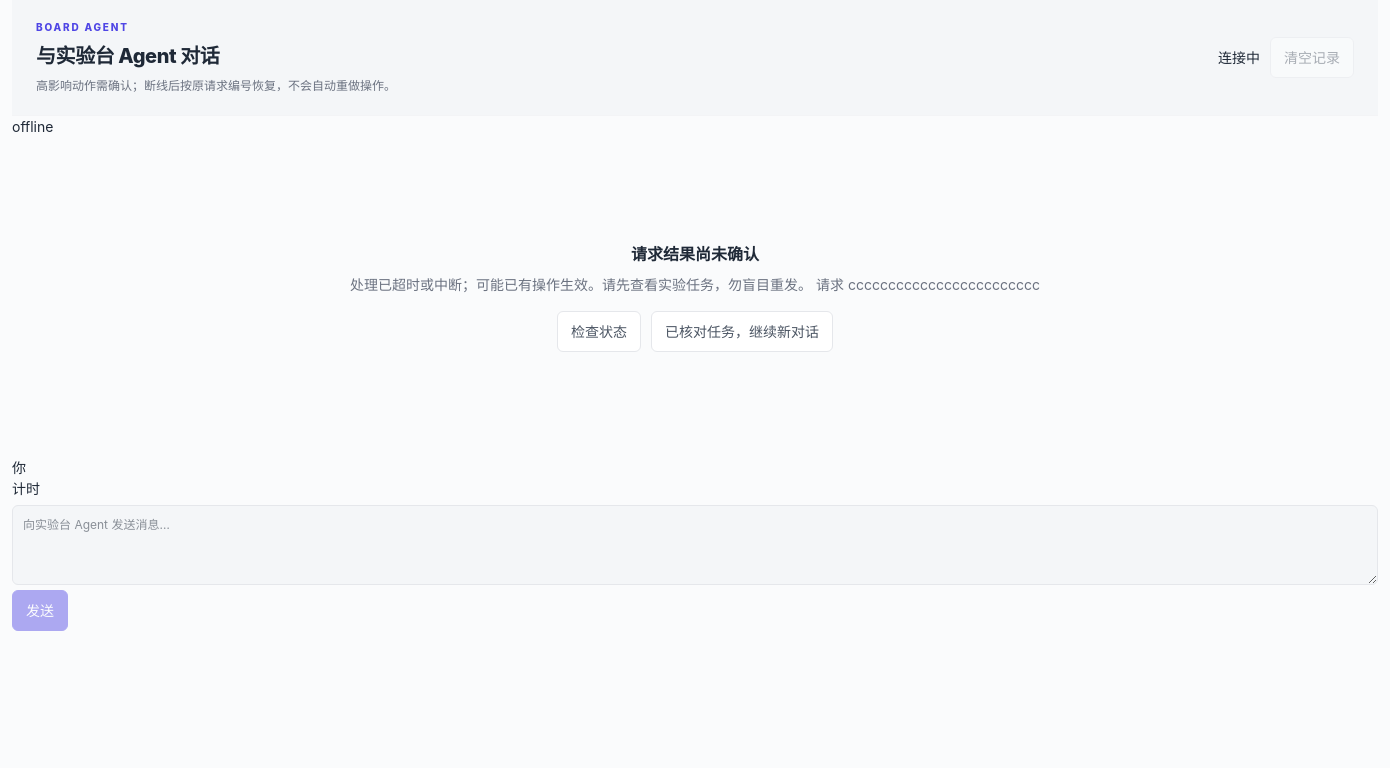
it: request-based portal chat › bounds a hanging socket and a request deadline even when polling is offline
The image size is (1390, 768).
expect the text "请求结果尚未确认" is shown: met, box [631,242,759,266]
Step 1. Click the button "已核对任务，继续新对话" → (742, 332), box [651,311,833,352]
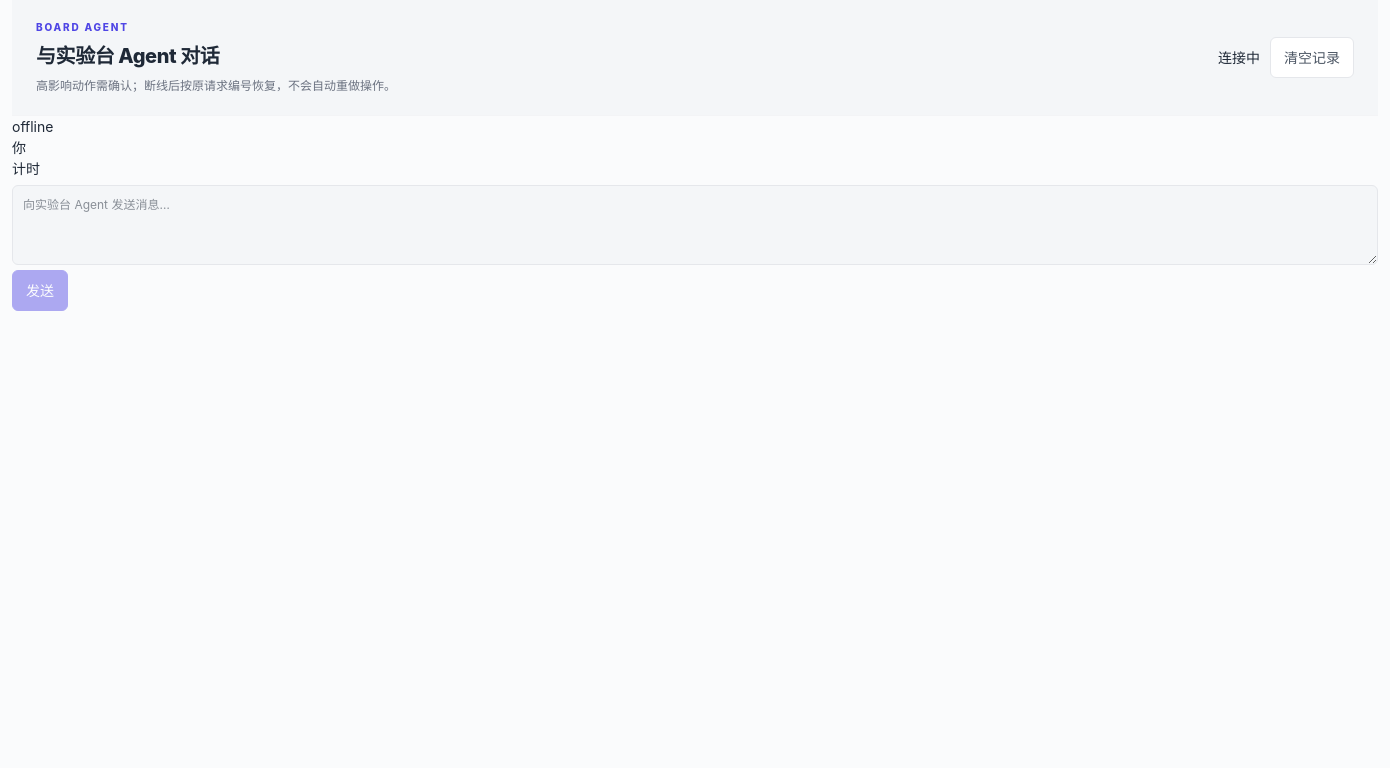
expect the text "请求结果尚未确认" is gone: met
